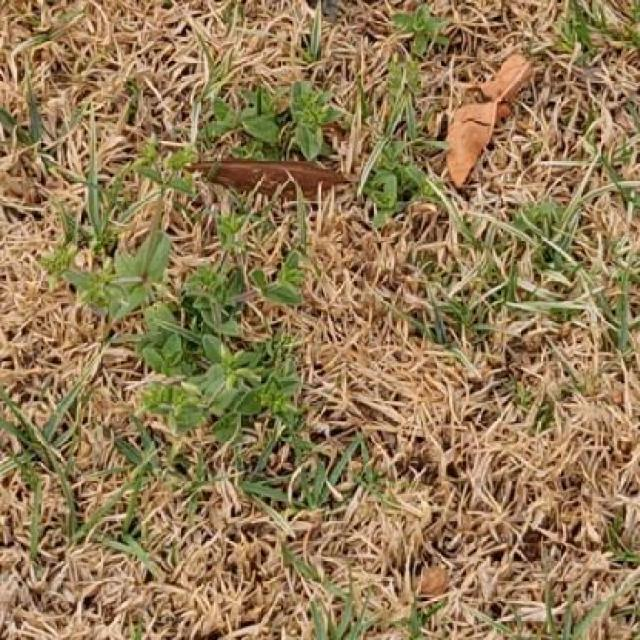weed: (51, 140, 305, 445), (202, 80, 346, 161), (388, 5, 448, 127), (362, 126, 435, 225)
